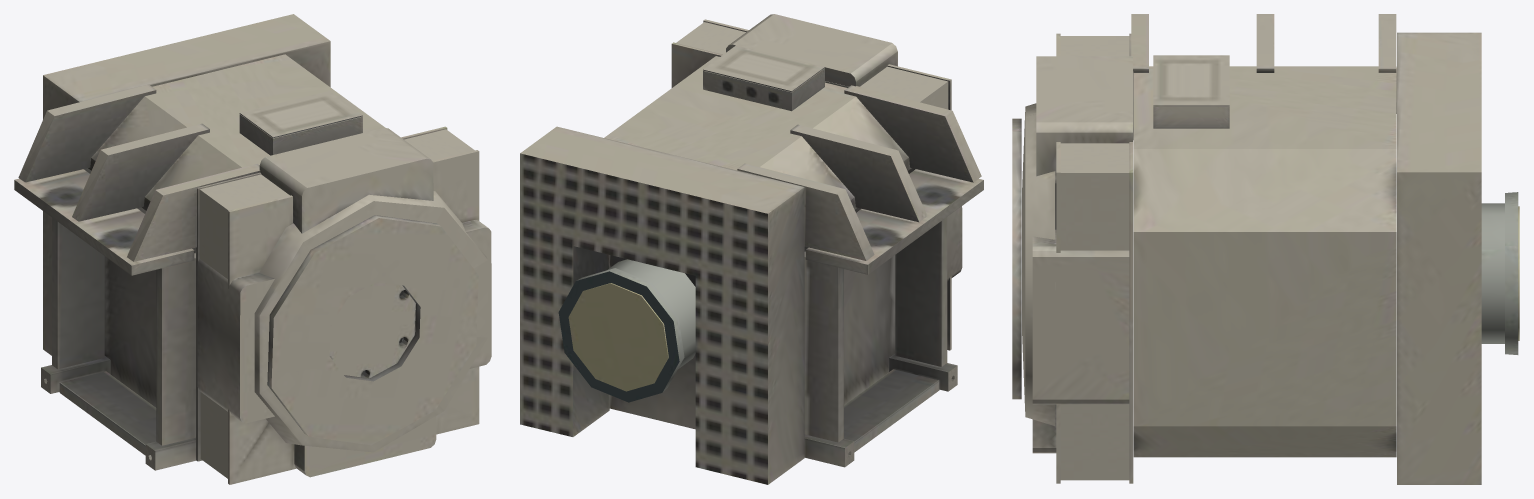
File: dianji001.FBX
The picture shows the model from 3 angles, left to right: view 1: azimuth 30°, elevation 25°; view 2: azimuth 150°, elevation 25°; view 3: azimuth 270°, elevation 25°; orthographic projection. The views are drawn at different scales.
Visible parts, largest first — view 1: Object075; view 2: Object075; view 3: Object075.
Boxes of the visible parts, bbox=[...] form: Object075: bbox=[14, 14, 491, 484]; Object075: bbox=[520, 14, 983, 484]; Object075: bbox=[1012, 14, 1519, 484].
Bounding box in the file's own units: 0.6984 × 0.6269 × 0.8496.
